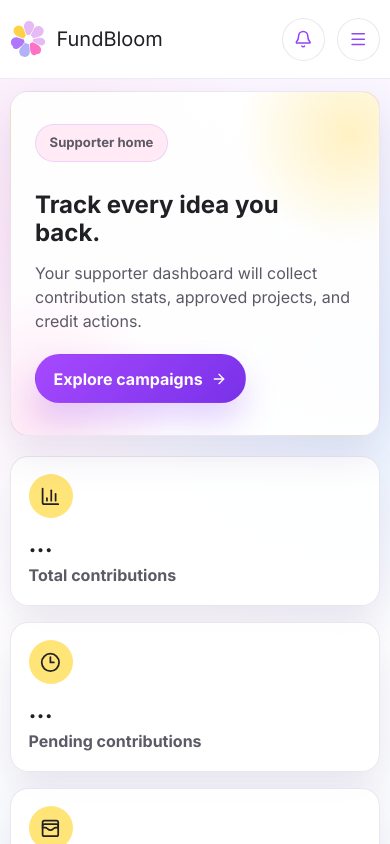
authenticated dashboard routing › opens the responsive dashboard navigation
Expected: the heading "Track every idea you back." is shown, [35, 182, 294, 246]
Click the button named "toggle dashboard navigation".
click(358, 39)  # box [337, 18, 380, 61]
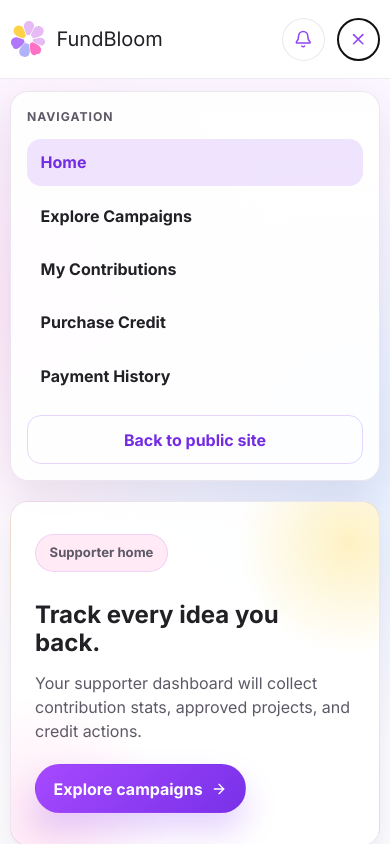
Expected: the button named "toggle dashboard navigation" is expanded, [337, 18, 380, 61]
